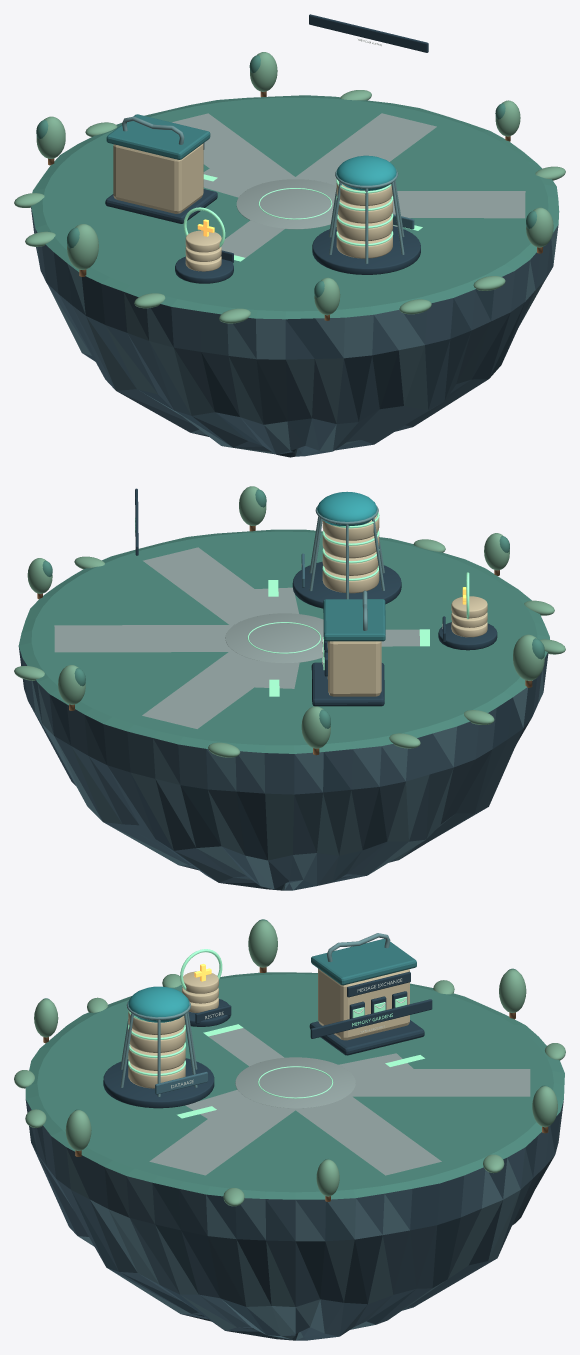
Rendered from district-data.glb.
3 renders of one model, top to bottom at view 1: azimuth 30°, elevation 25°; view 2: azimuth 150°, elevation 25°; view 3: azimuth 270°, elevation 25°, orthographic. The views are drawn at different scales.
Visible parts, largest first — view 1: district-data; view 2: district-data; view 3: district-data.
Part boxes in pixels (x1,y1,x2,y2): district-data: (14, 14, 565, 457); district-data: (14, 486, 565, 890); district-data: (14, 919, 565, 1340).
Bounding box in the file's own units: 13.23 × 9.78 × 12.82.
